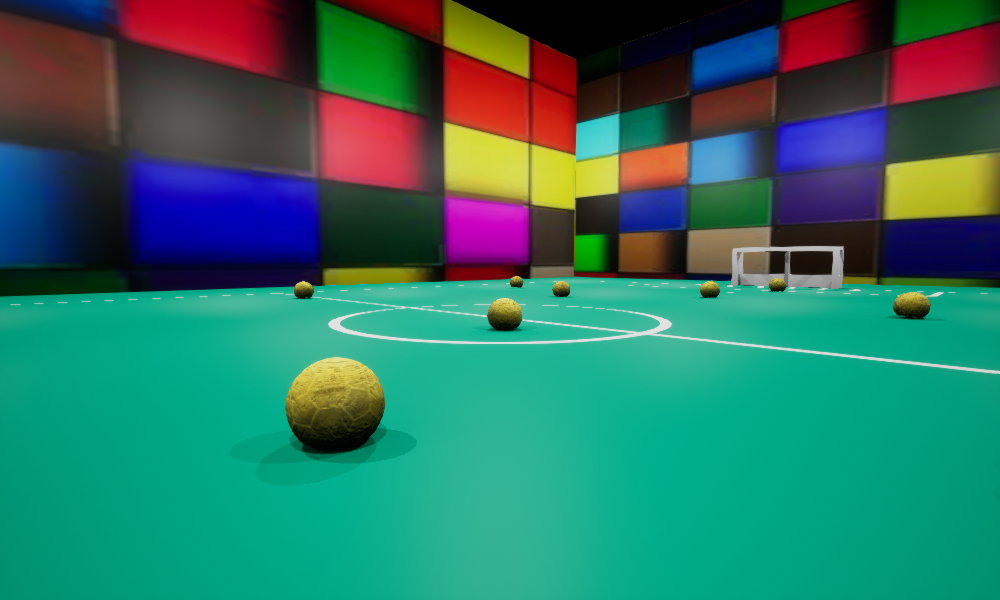b: (285, 357, 384, 450), (487, 298, 521, 329), (893, 292, 930, 318), (294, 281, 313, 298), (700, 281, 719, 297), (552, 281, 569, 296), (769, 278, 785, 291), (510, 276, 522, 287)
g: (731, 246, 843, 288)
